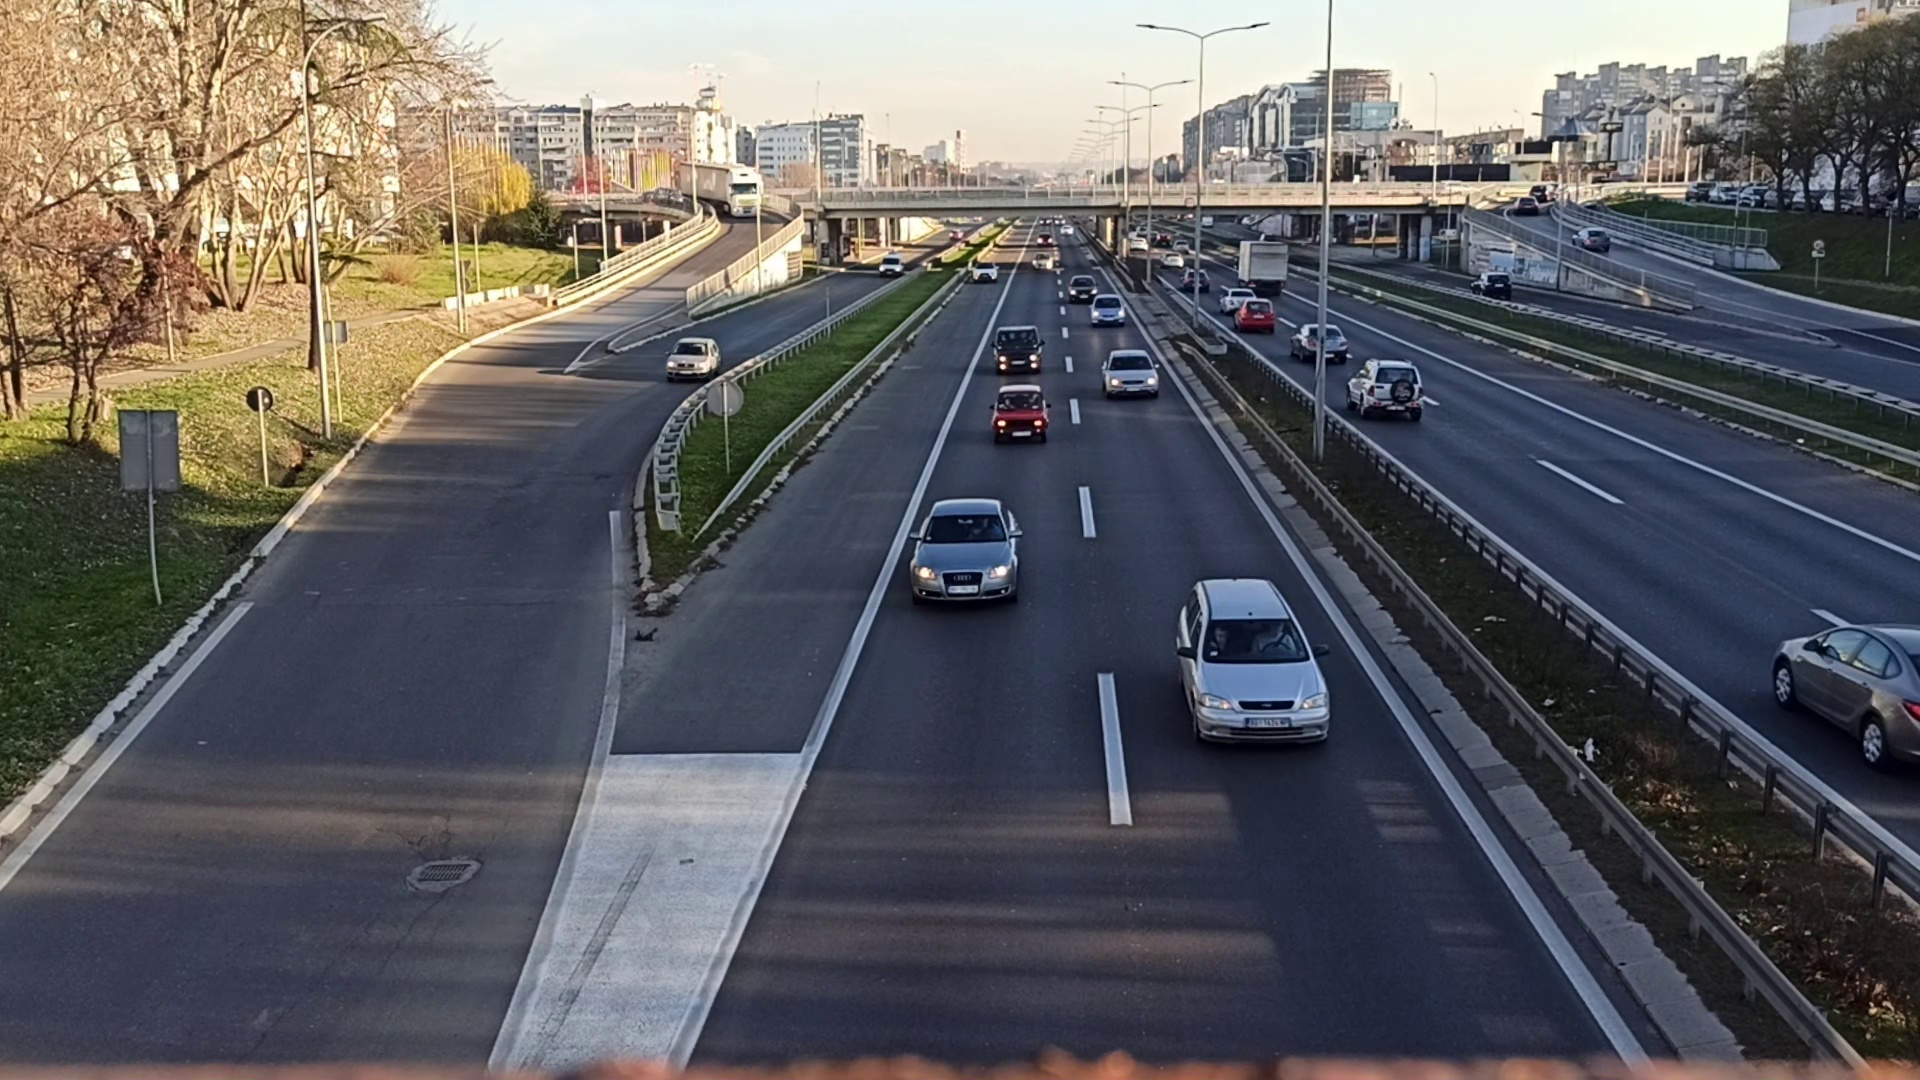car: (1174, 574, 1331, 749), (911, 498, 1021, 605), (1346, 360, 1422, 419), (992, 381, 1048, 443), (1096, 351, 1160, 397), (986, 324, 1044, 375), (665, 335, 721, 377), (1234, 299, 1276, 332), (1091, 294, 1124, 324), (1065, 277, 1096, 303)
